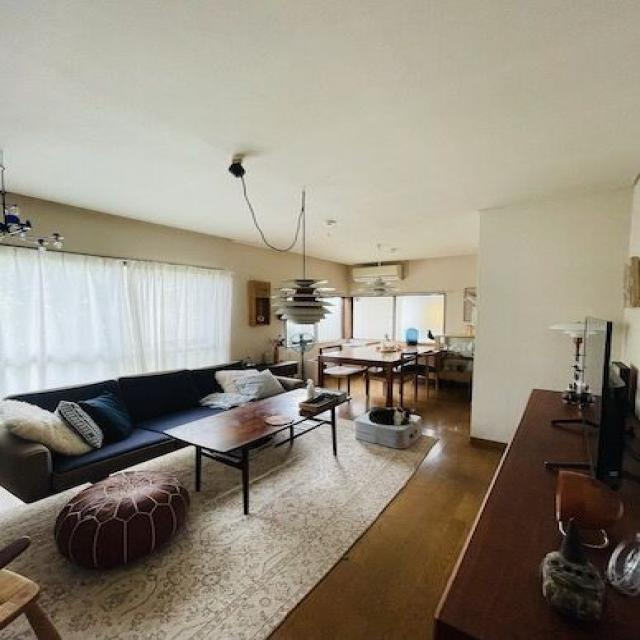vintage desk: (173, 381, 346, 514), (315, 339, 434, 412)
vintage sofa: (2, 368, 188, 477)
